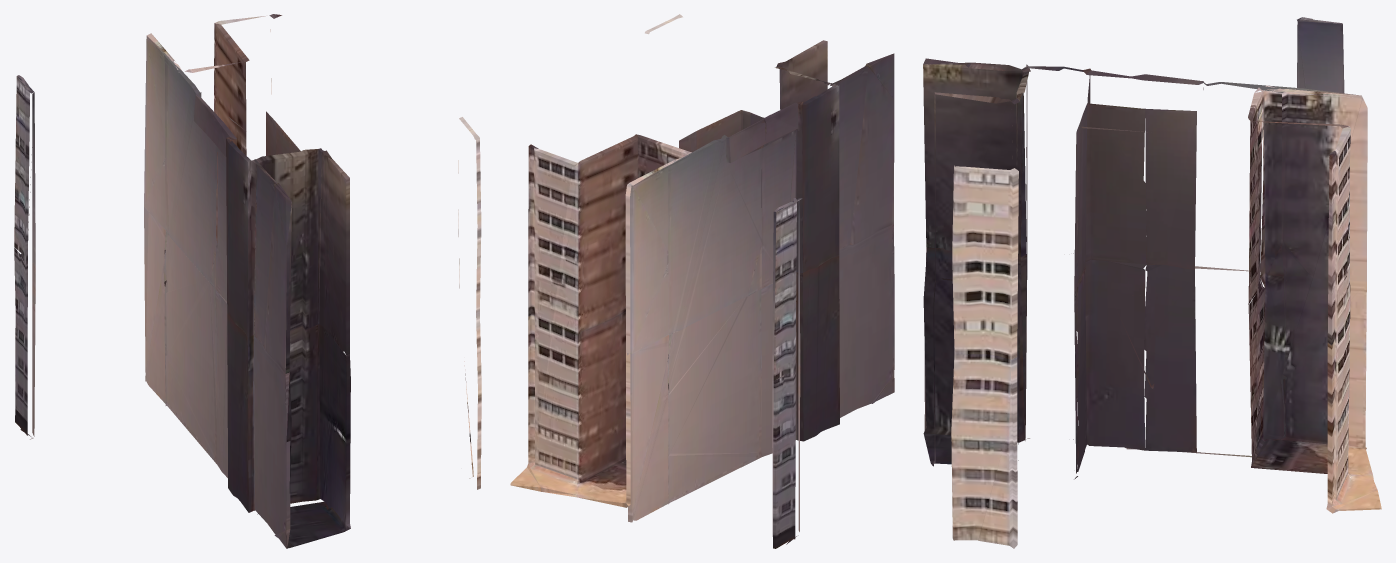
The picture shows the model from 3 angles, left to right: view 1: azimuth 30°, elevation 25°; view 2: azimuth 150°, elevation 25°; view 3: azimuth 270°, elevation 25°; orthographic projection. The views are drawn at different scales.
Parts seen in each view (by area): view 1: Mesh_0; view 2: Mesh_0; view 3: Mesh_0.
Boxes of the visible parts, x1,y1,x2,y2 form: Mesh_0: (14,14,481,548); Mesh_0: (510,14,894,548); Mesh_0: (923,17,1381,548).
Bounding box in the file's own units: 32.8 × 37.52 × 40.9.
Materials: 1 (1 with a texture image).
